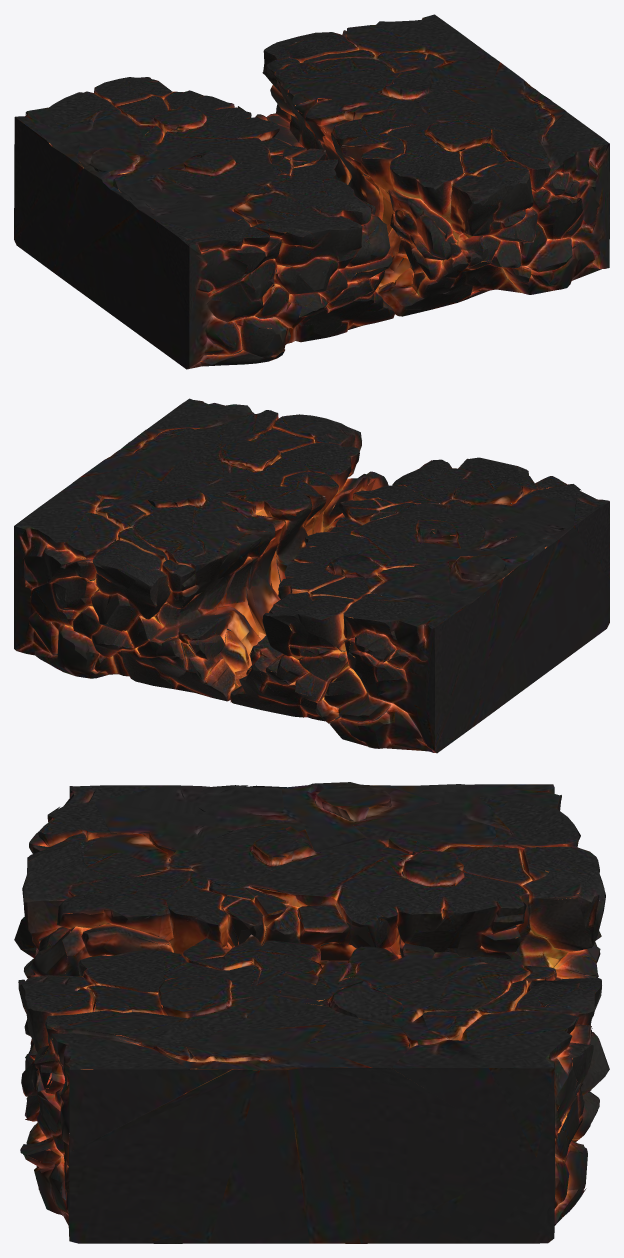
Rendered from fissure.glb.
3 views of the same model, one above another, from view 1: azimuth 30°, elevation 25°; view 2: azimuth 150°, elevation 25°; view 3: azimuth 270°, elevation 25° (orthographic). The views are drawn at different scales.
Visible parts, largest first — view 1: Mesh_0; view 2: Mesh_0; view 3: Mesh_0.
Boxes of the visible parts, x1=… form: Mesh_0: x1=14, y1=14, x2=609, y2=369; Mesh_0: x1=14, y1=398, x2=609, y2=753; Mesh_0: x1=14, y1=782, x2=609, y2=1243.
Bounding box in the file's own units: 3.6 × 1.1 × 3.18.
1 material, 1 textured.
